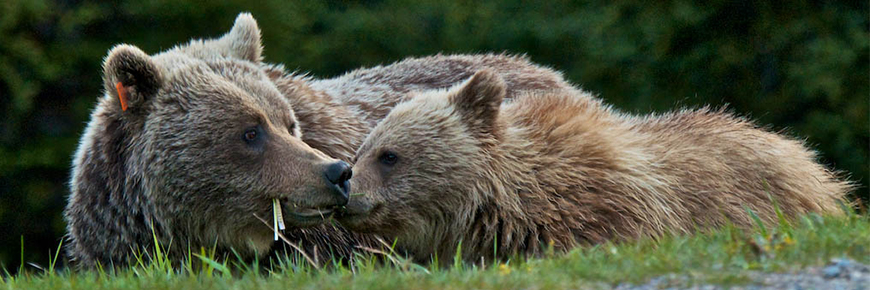bear: (91, 12, 359, 218), (335, 76, 509, 222)
